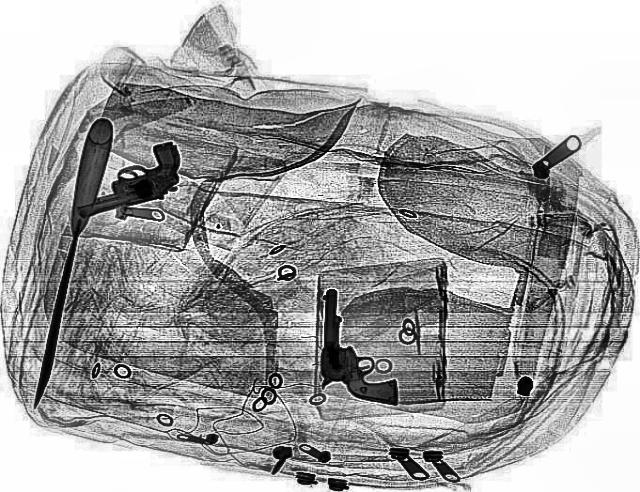Gun: (52, 140, 200, 220), (316, 288, 404, 404)
Knife: (18, 116, 116, 410)
